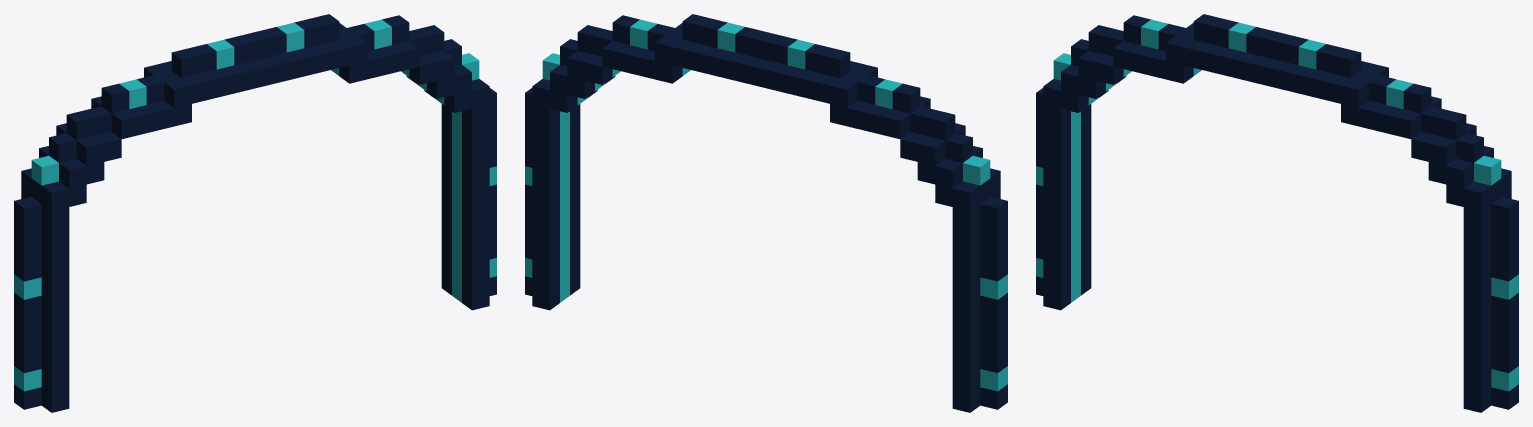
Rendered from SM_Road_JMGateBlue1.fbx.
3 renders of one model, left to right at view 1: azimuth 30°, elevation 25°; view 2: azimuth 150°, elevation 25°; view 3: azimuth 330°, elevation 25°, orthographic.
Parts seen in each view (by area): view 1: SM_Road_JMGateBlue1; view 2: SM_Road_JMGateBlue1; view 3: SM_Road_JMGateBlue1.
Boxes of the visible parts, bbox=[...] form: SM_Road_JMGateBlue1: bbox=[14, 14, 496, 412]; SM_Road_JMGateBlue1: bbox=[525, 14, 1007, 412]; SM_Road_JMGateBlue1: bbox=[1036, 14, 1518, 412].
Size of the model in its own units: 540 by 340 by 60.
Materials: 2 (1 with a texture image).
